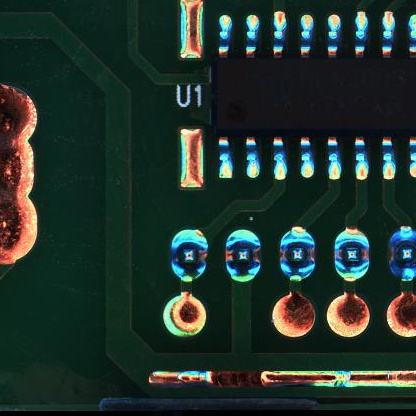spot: (333, 225, 373, 283), (279, 224, 317, 283), (169, 227, 207, 283), (225, 231, 264, 283), (386, 225, 415, 284)
